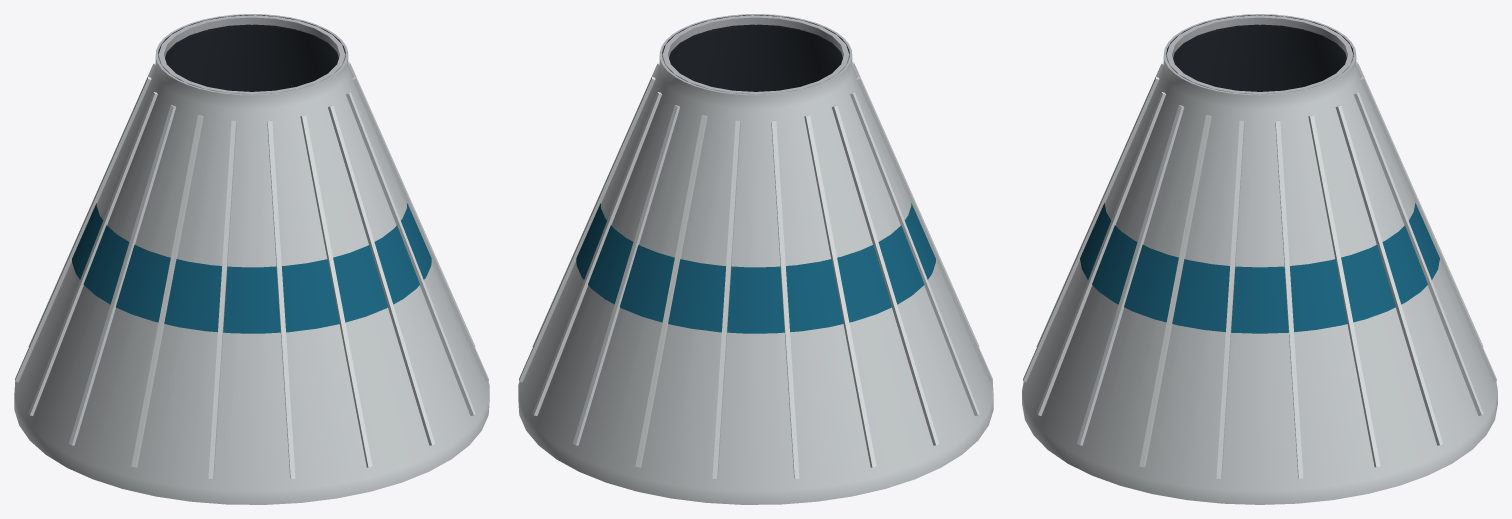
File: adapter_d37_to_d15.glb
The picture shows the model from 3 angles, left to right: view 1: azimuth 30°, elevation 25°; view 2: azimuth 150°, elevation 25°; view 3: azimuth 270°, elevation 25°; orthographic projection.
Visible parts, largest first — view 1: adapter_d37_to_d15_mesh; view 2: adapter_d37_to_d15_mesh; view 3: adapter_d37_to_d15_mesh.
Part boxes in pixels (box(x1,y1,x2,y2)): adapter_d37_to_d15_mesh: box(14, 14, 489, 504); adapter_d37_to_d15_mesh: box(518, 14, 993, 504); adapter_d37_to_d15_mesh: box(1022, 14, 1497, 504).
Bounding box in the file's own units: 3.7 × 3 × 3.7.
